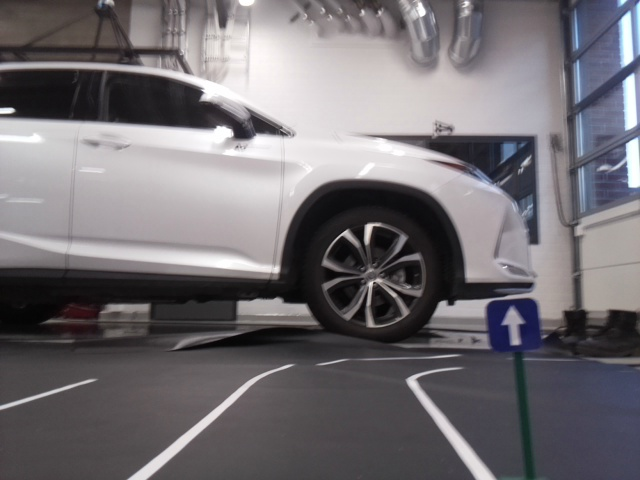OneWay: (486, 303, 539, 347)
